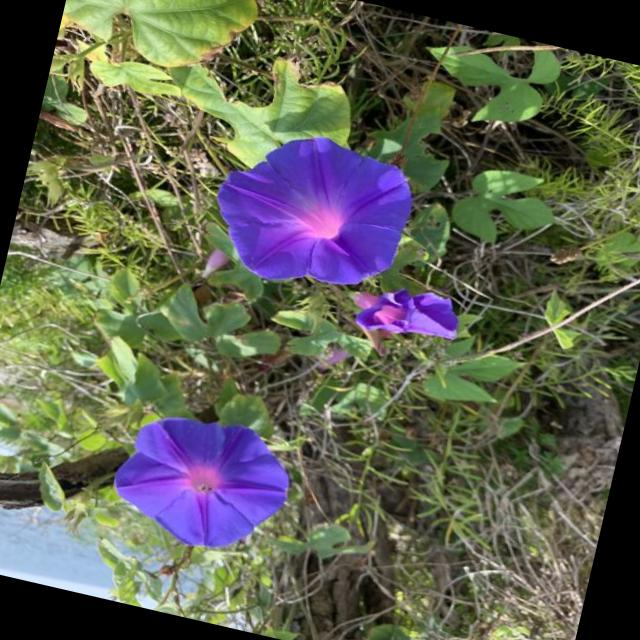ipomoea: (196, 113, 427, 310), (98, 396, 304, 567), (344, 271, 468, 354)
